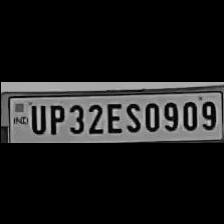0: (178, 97, 198, 130), (141, 98, 159, 132)
2: (85, 100, 103, 134)
3: (65, 99, 85, 133)
9: (198, 96, 218, 130), (160, 97, 178, 131)
E: (103, 99, 121, 134)
P: (44, 100, 64, 136)
S: (122, 98, 142, 132)
U: (27, 101, 46, 133)
